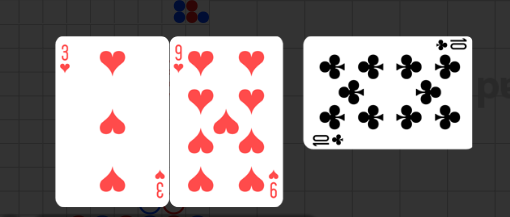10C: (433, 38, 468, 54)
3H: (59, 44, 72, 75)
9H: (267, 168, 279, 199)
